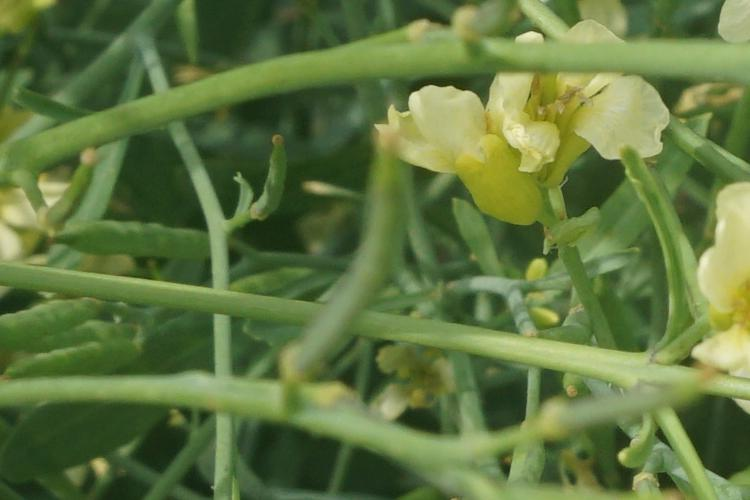pod: (40, 201, 237, 281), (52, 129, 126, 238), (256, 121, 323, 236)
white: (388, 14, 659, 211)
